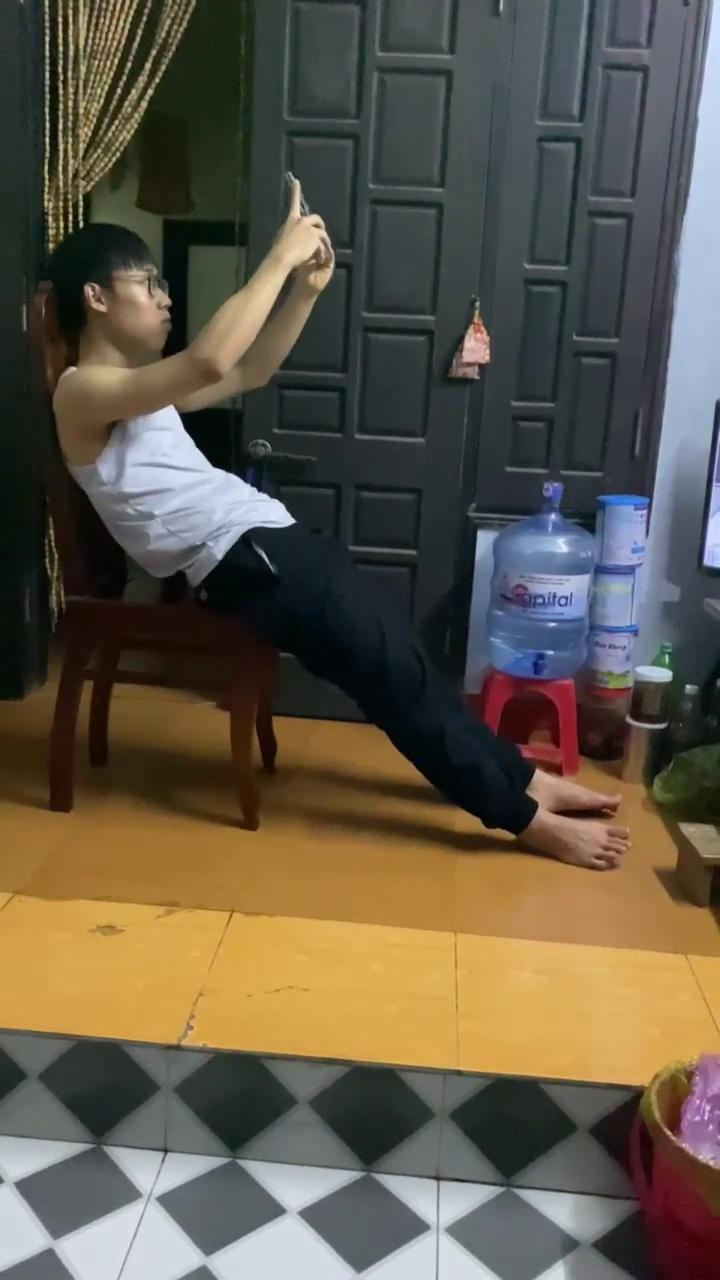BadPosture: (47, 181, 629, 870)
